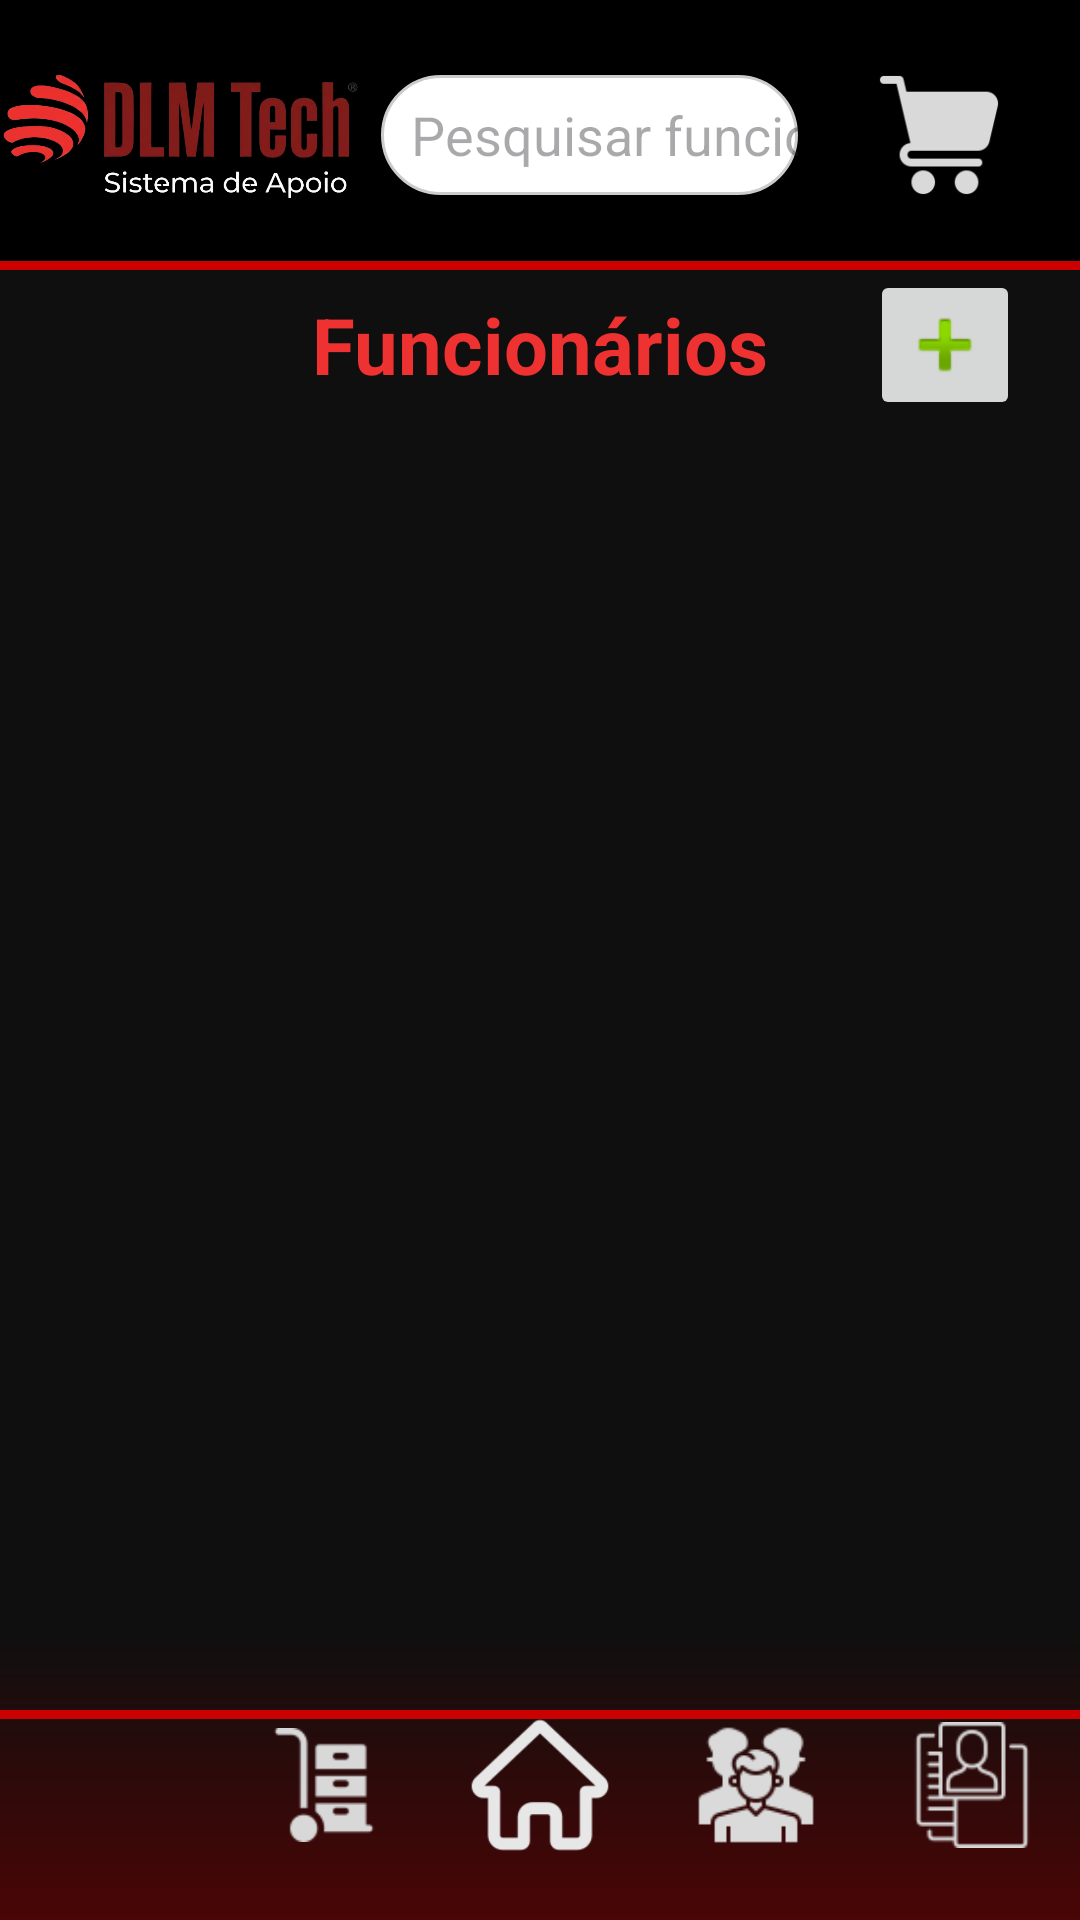

Screen size 1080px x 1920px. Icon name, then its box in pixels as (x1, y1, x2, y2):
Adicionar: (882, 288, 1008, 402)
